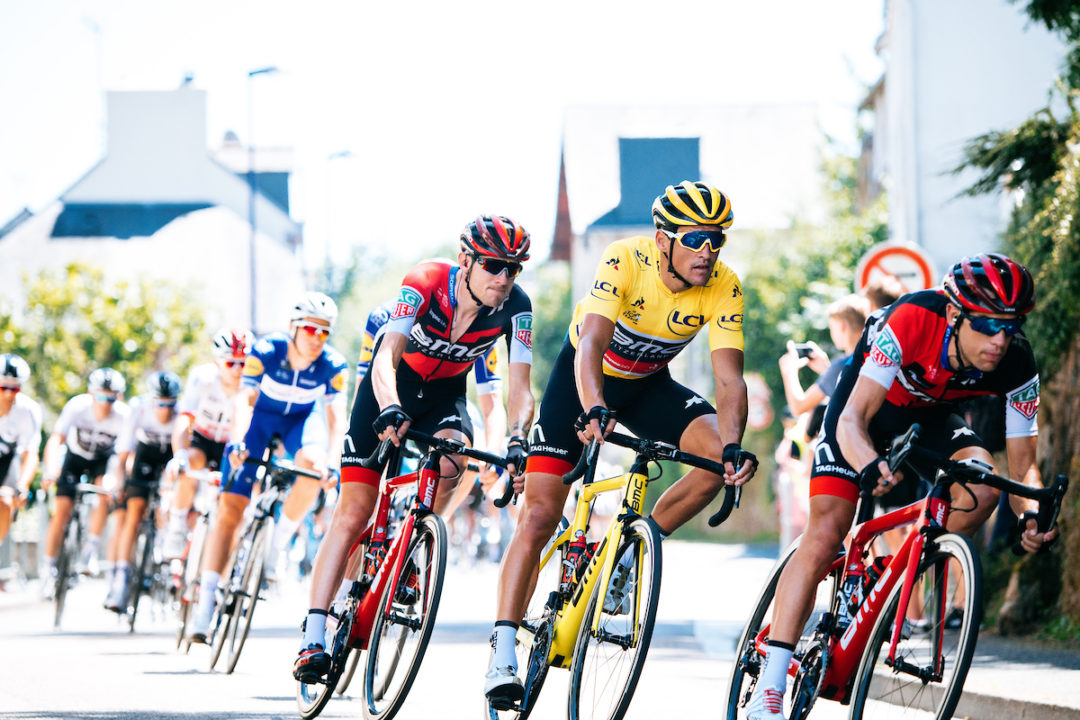with_helmet: (939, 250, 1034, 314), (650, 178, 739, 228), (461, 216, 533, 271)
